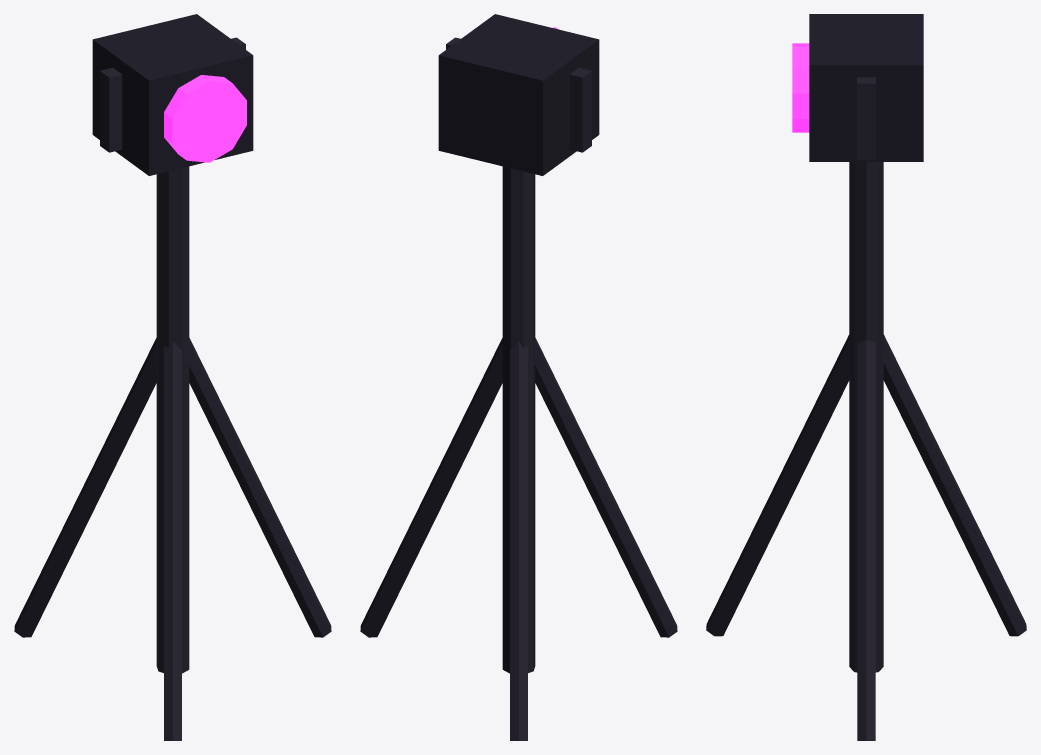
The model's file is stage-light.glb.
The picture shows the model from 3 angles, left to right: view 1: azimuth 30°, elevation 25°; view 2: azimuth 150°, elevation 25°; view 3: azimuth 270°, elevation 25°; orthographic projection.
Parts seen in each view (by area): view 1: stage-light; view 2: stage-light; view 3: stage-light.
Boxes of the visible parts, <box> form: stage-light: <box>14,14,331,740</box>; stage-light: <box>360,14,677,740</box>; stage-light: <box>706,14,1026,740</box>.
Bounding box in the file's own units: 0.7428 × 1.83 × 0.843.
